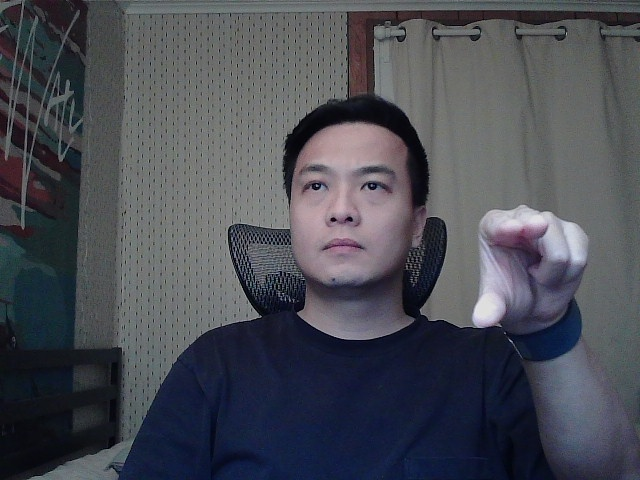No: (458, 196, 601, 340)
